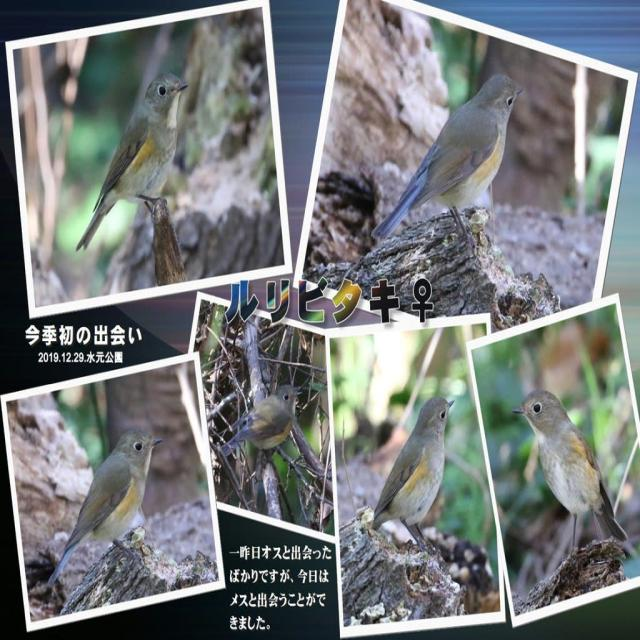bird: (516, 384, 627, 618), (392, 79, 522, 273), (82, 72, 193, 260), (359, 389, 461, 572), (55, 421, 156, 590), (221, 370, 307, 480)
